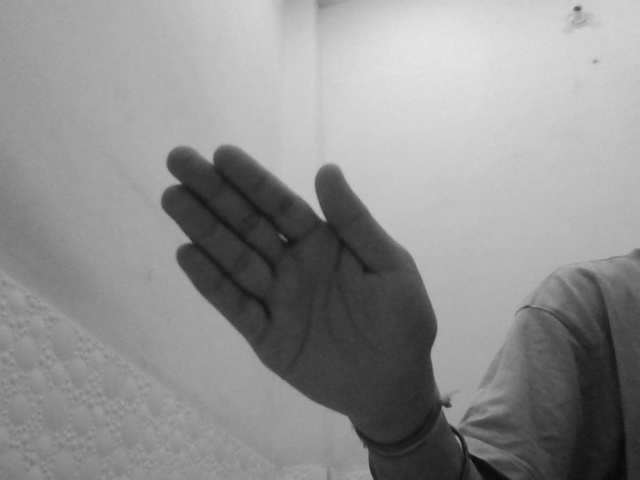Hello: (158, 139, 439, 424)
